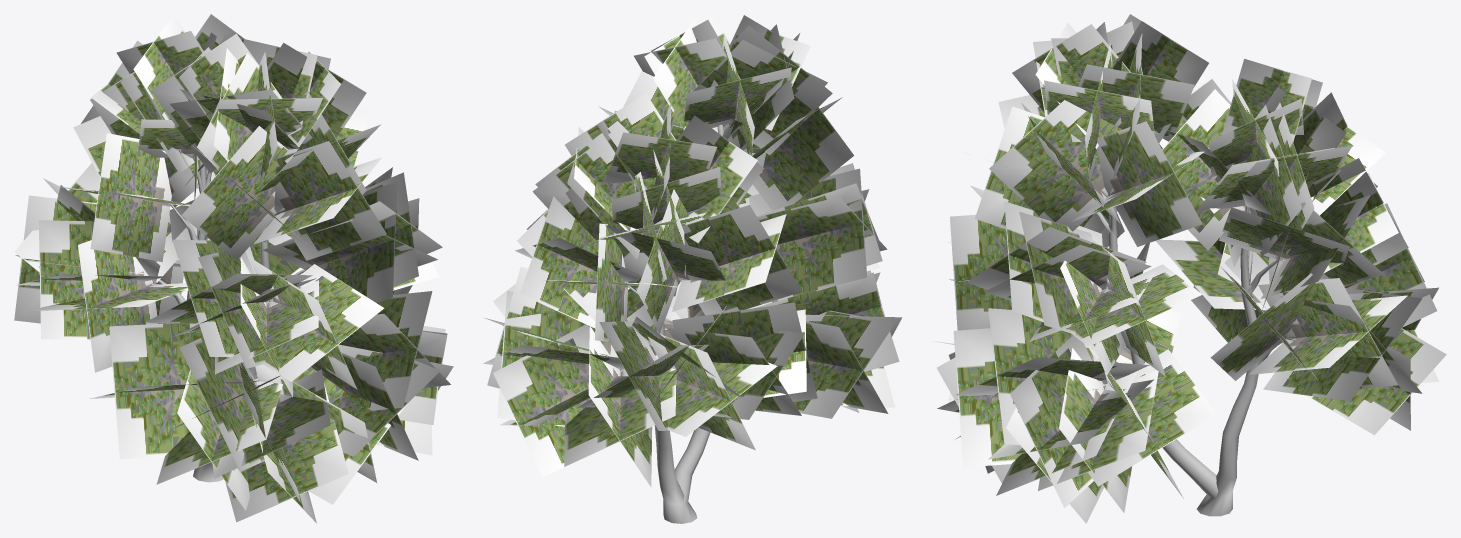
3 renders of one model, left to right at view 1: azimuth 30°, elevation 25°; view 2: azimuth 150°, elevation 25°; view 3: azimuth 270°, elevation 25°, orthographic. The views are drawn at different scales.
Visible parts, largest first — view 1: Mobile_Tree_1; view 2: Mobile_Tree_1; view 3: Mobile_Tree_1.
Part boxes in pixels (<box>): Mobile_Tree_1: <box>14,14,453,523</box>; Mobile_Tree_1: <box>483,14,902,523</box>; Mobile_Tree_1: <box>935,14,1446,523</box>.
Size of the model in its own units: 10.58 by 14.52 by 14.04.
